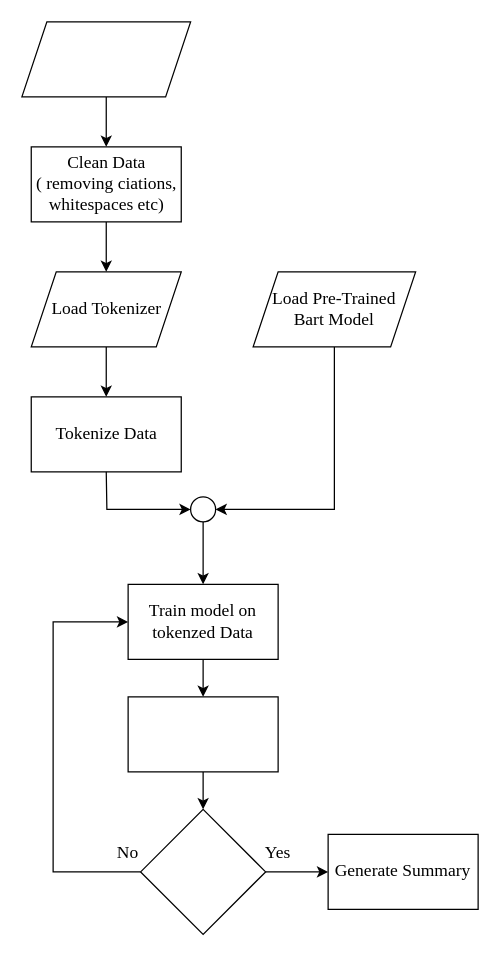
Some shapes in this 500 by 956 pixel diagram are drawn without their labels. The shapes that lost their labels are listed below. From the top down, each one's centre as x and y in pixels, then its label:
pixel 106 59: Load Data from huggingface library
pixel 202 734: Evaluate Model
pixel 202 871: Is Score Satifactory ?
